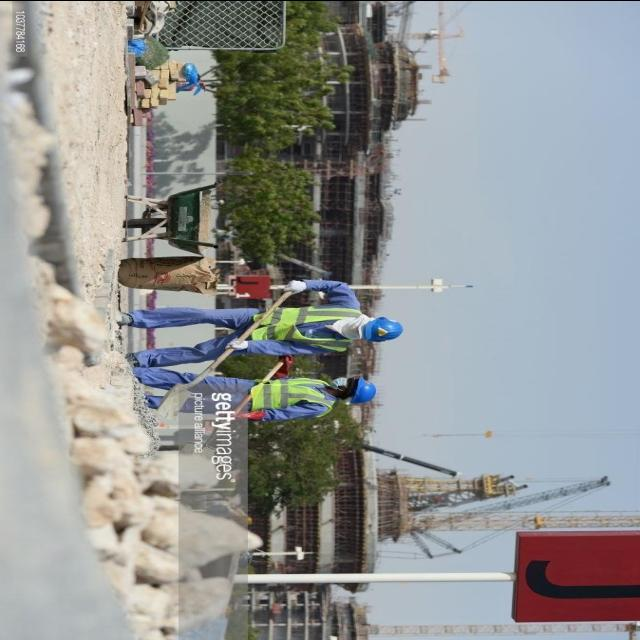helmet: (364, 310, 408, 344), (347, 373, 383, 407)
jacket: (255, 299, 364, 349), (254, 366, 340, 416)
